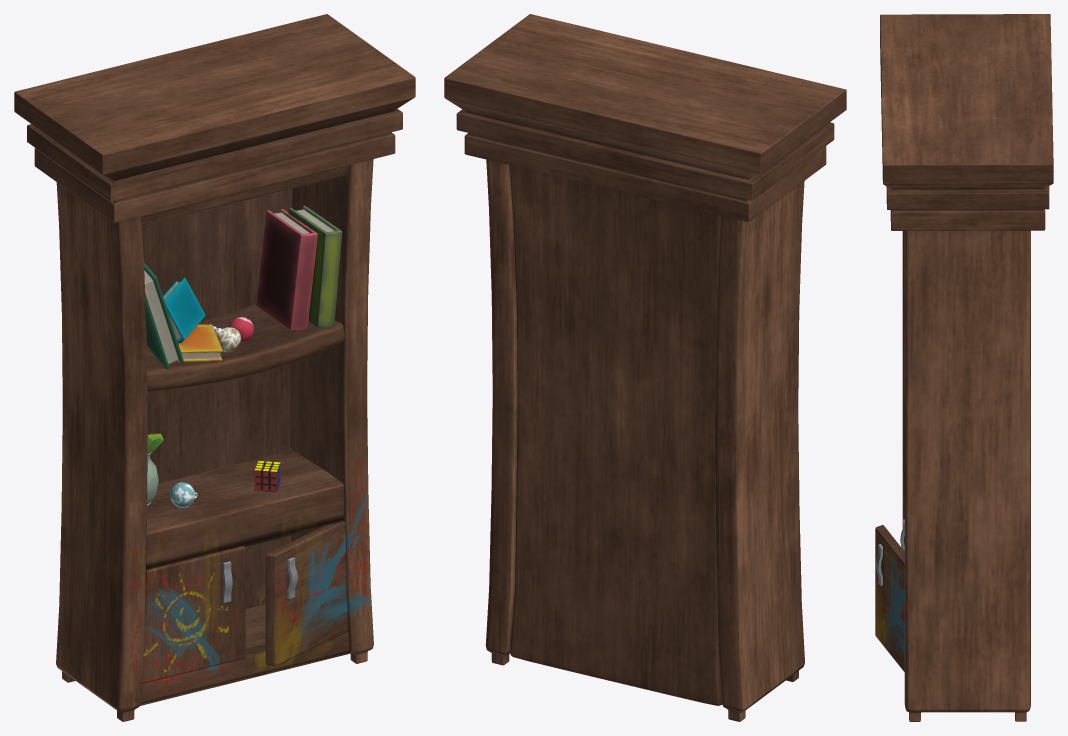
File: stylized_bookshelf_-_low_poly.glb
3 views of the same model, side by side, from view 1: azimuth 30°, elevation 25°; view 2: azimuth 150°, elevation 25°; view 3: azimuth 270°, elevation 25° (orthographic). The views are drawn at different scales.
Visible parts, largest first — view 1: bookshelf_GEO; view 2: bookshelf_GEO; view 3: bookshelf_GEO.
Part boxes in pixels (x1,y1,x2,y2): bookshelf_GEO: [14, 14, 415, 721]; bookshelf_GEO: [444, 14, 846, 721]; bookshelf_GEO: [875, 14, 1053, 721].
Bounding box in the file's own units: 1.44 × 2.55 × 0.718.
1 material, 1 textured.
